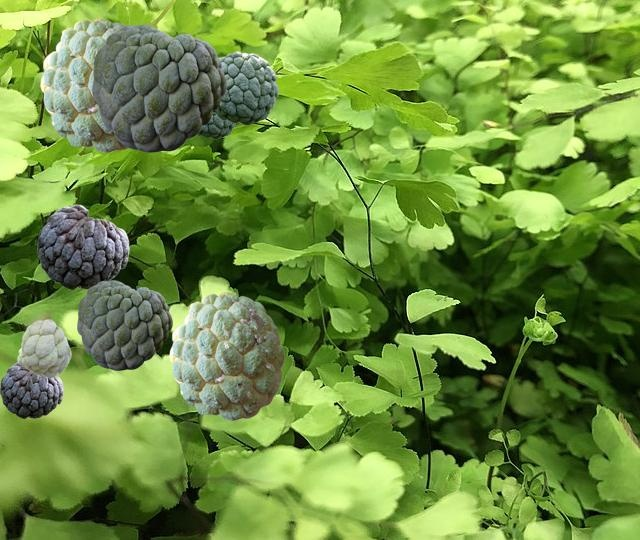atis: (92, 24, 225, 151), (169, 292, 283, 419), (40, 18, 127, 151), (77, 280, 171, 369), (37, 204, 128, 288), (214, 51, 277, 124), (0, 362, 62, 417), (17, 319, 70, 376), (197, 114, 235, 138)
